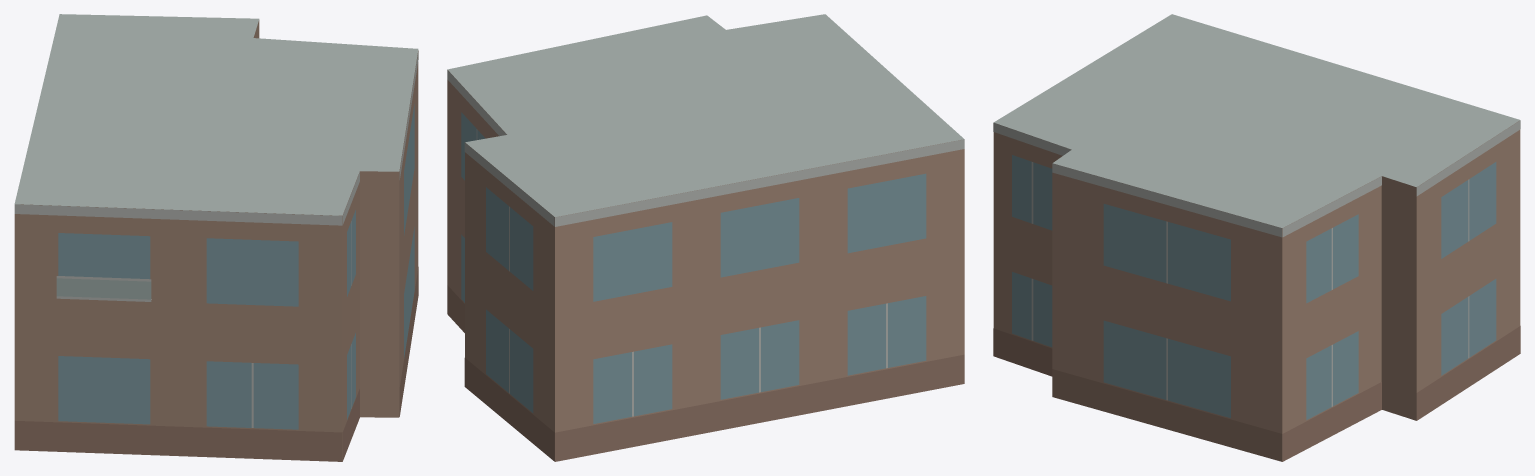
File: survey-upis-32778327.glb
3 views of the same model, side by side, from view 1: azimuth 30°, elevation 25°; view 2: azimuth 150°, elevation 25°; view 3: azimuth 270°, elevation 25° (orthographic). The views are drawn at different scales.
Parts seen in each view (by area): view 1: survey-upis-32778327.tmp; view 2: survey-upis-32778327.tmp; view 3: survey-upis-32778327.tmp.
Part boxes in pixels (x1,y1,x2,y2): survey-upis-32778327.tmp: (14,14,418,461); survey-upis-32778327.tmp: (447,14,964,461); survey-upis-32778327.tmp: (993,14,1520,461).
Size of the model in its own units: 12 by 6.1 by 12.48.
